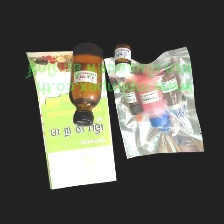book: (24, 48, 120, 194)
insecticide: (66, 36, 108, 129), (135, 71, 169, 129), (158, 67, 185, 112), (118, 79, 144, 117), (111, 40, 135, 79)
